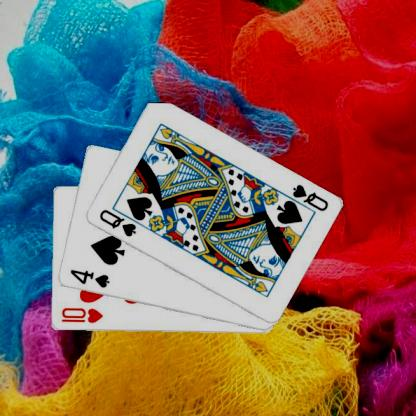10H: (58, 305, 104, 325)
4S: (66, 267, 110, 290)
QS: (289, 181, 329, 213), (96, 207, 137, 238)
